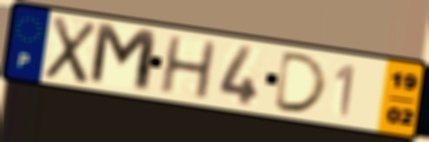1: (333, 64, 356, 118)
4: (216, 43, 262, 109)
D: (271, 50, 331, 116)
H: (156, 34, 219, 102)
M: (86, 20, 161, 96)
X: (41, 14, 100, 87)
